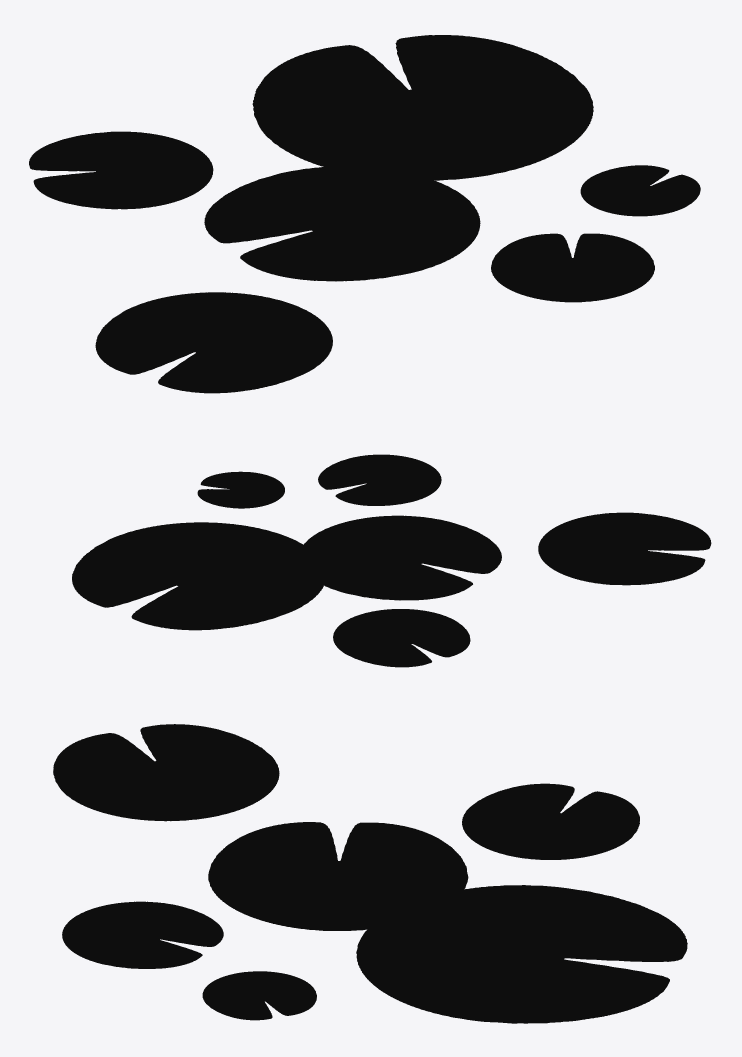
Rendered from Nenuphar_G2.fbx.
3 renders of one model, top to bottom at view 1: azimuth 30°, elevation 25°; view 2: azimuth 150°, elevation 25°; view 3: azimuth 270°, elevation 25°, orthographic. The views are drawn at different scales.
Parts seen in each view (by area): view 1: Nenuphar_G2; view 2: Nenuphar_G2; view 3: Nenuphar_G2.
Part boxes in pixels (x1=…): Nenuphar_G2: x1=29, y1=35, x2=700, y2=393; Nenuphar_G2: x1=72, y1=454, x2=711, y2=667; Nenuphar_G2: x1=53, y1=724, x2=687, y2=1023.
Size of the model in its own units: 46.5 by 0.1951 by 41.58.
1 material, 1 textured.
